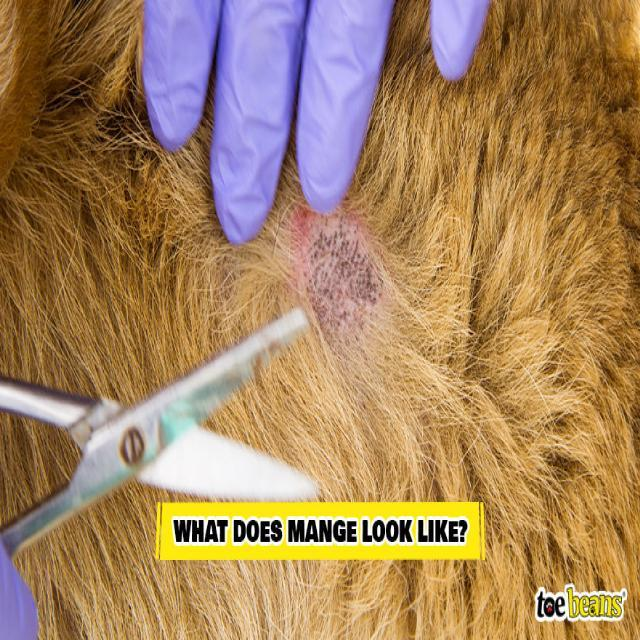mange: (290, 202, 380, 328)
